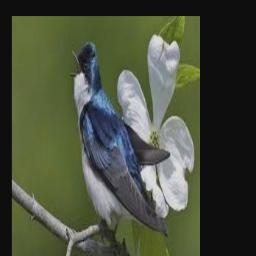Swallow: (69, 41, 170, 242)
